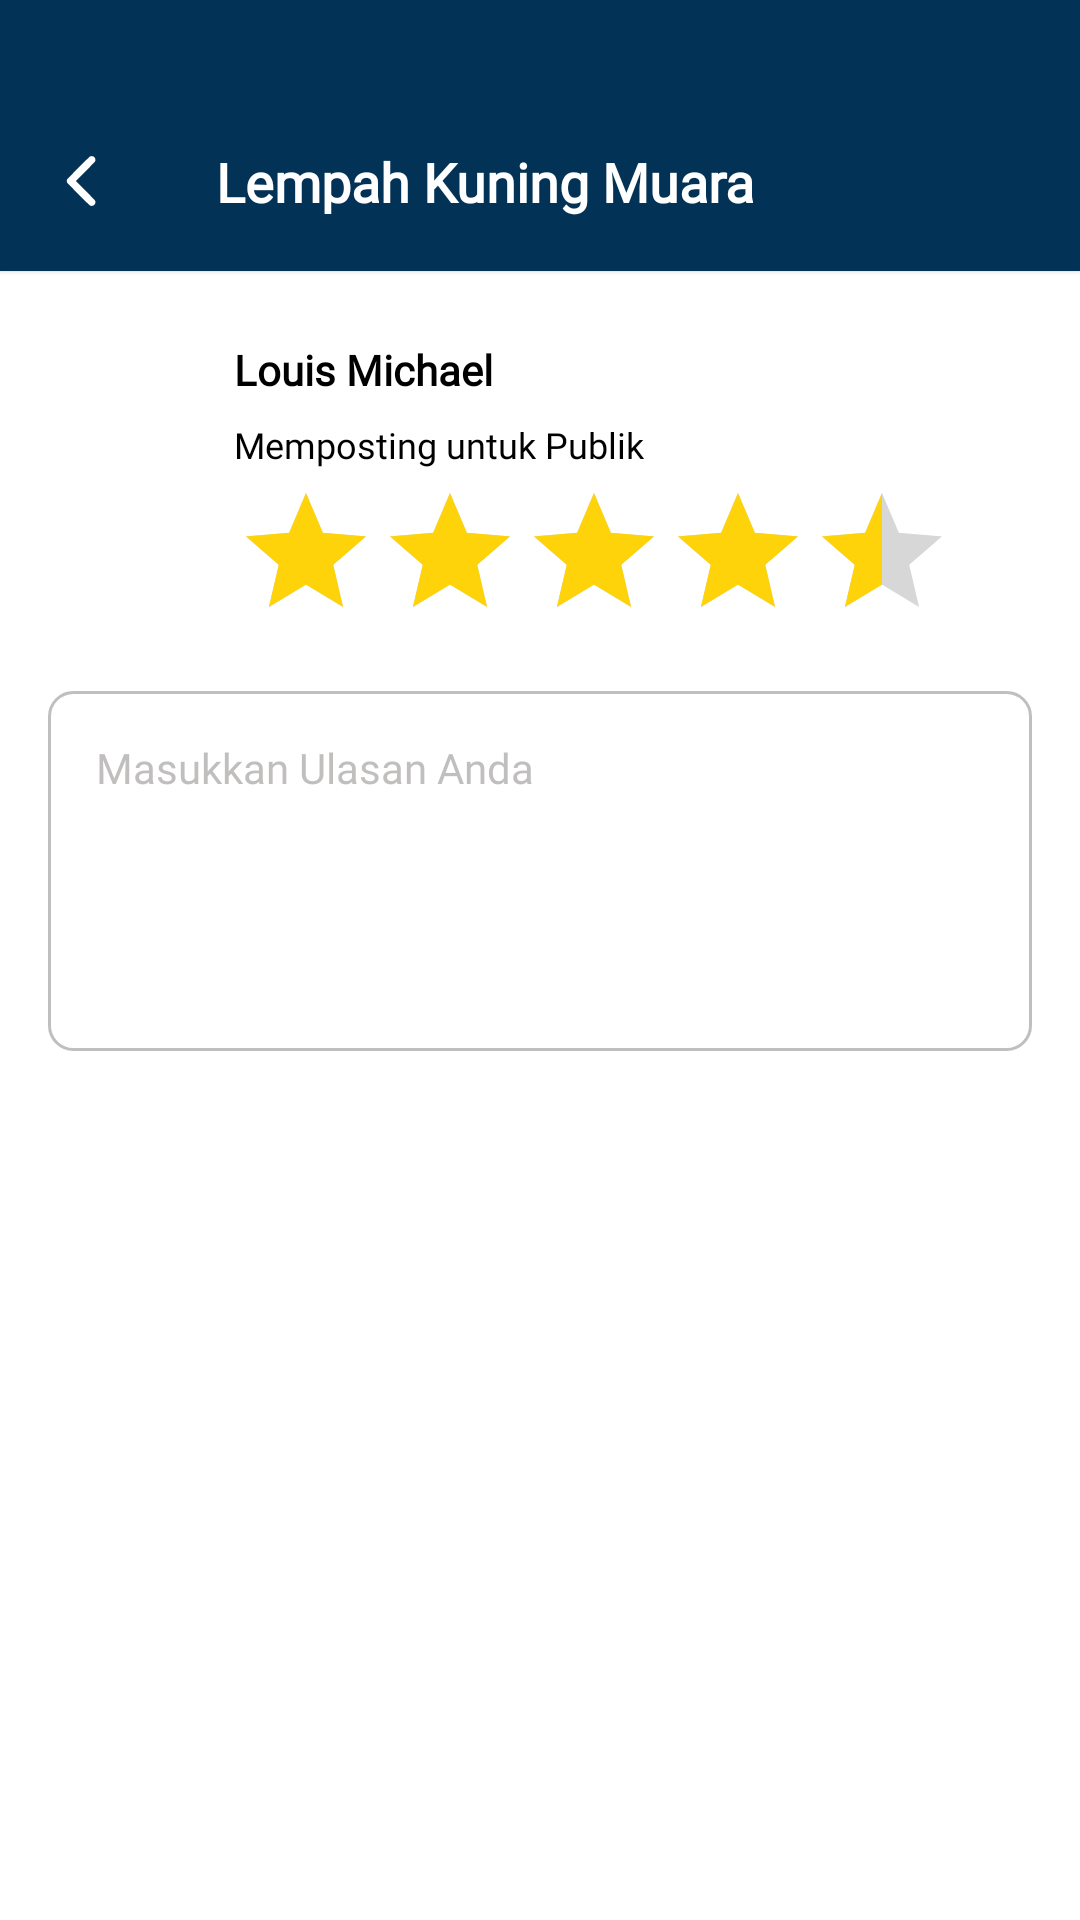

Named icons in this screenshot (1080*1920) and their centers, (x,y):
Tombol Kembali: (81,181)
